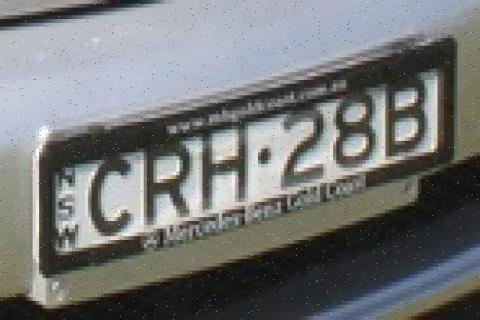LicensePlate: (20, 24, 464, 276)
